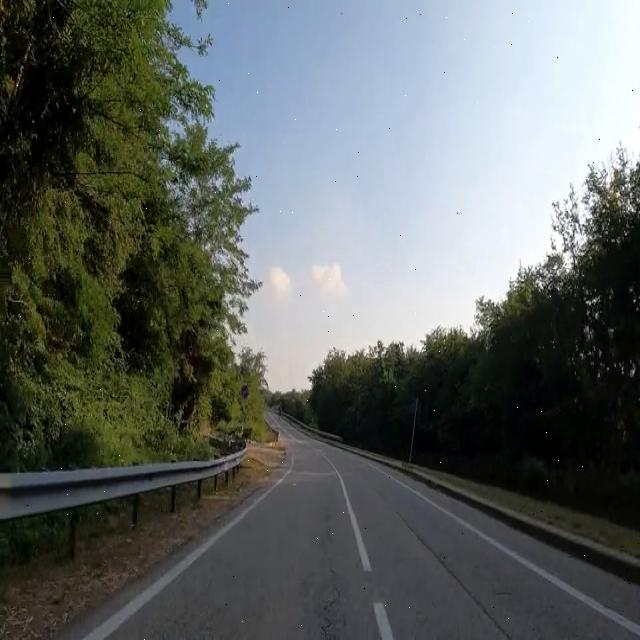lane: (381, 472, 640, 637), (84, 455, 293, 639), (334, 467, 371, 571), (374, 602, 394, 640)
road: (59, 420, 640, 638)
